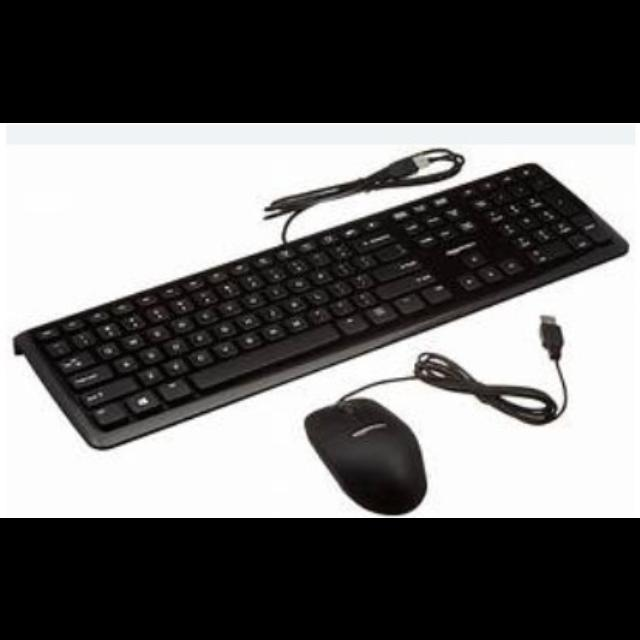Computer-Keyboard: (12, 162, 631, 451)
